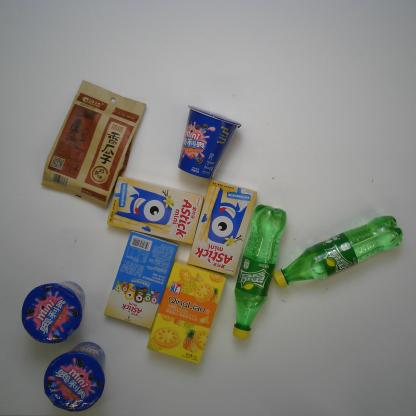Dessert: (145, 258, 226, 366), (102, 228, 182, 329), (185, 177, 259, 279), (106, 173, 205, 247), (176, 104, 243, 182), (41, 343, 109, 414), (19, 281, 88, 345)
Dried Food: (39, 78, 147, 210)
Drink: (272, 215, 405, 292), (232, 202, 288, 344)
